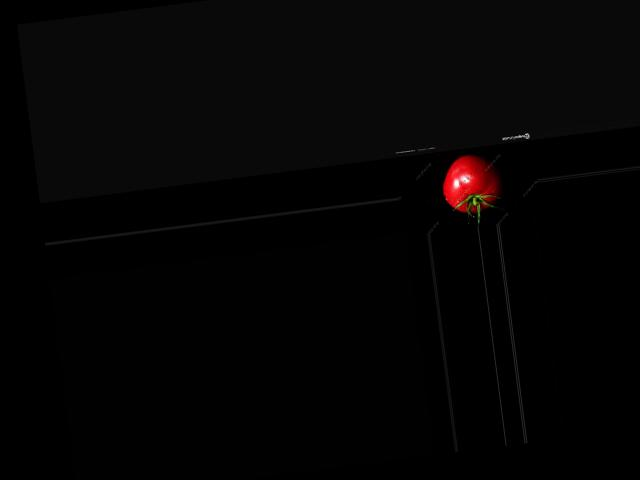tomato: (438, 150, 506, 216)
